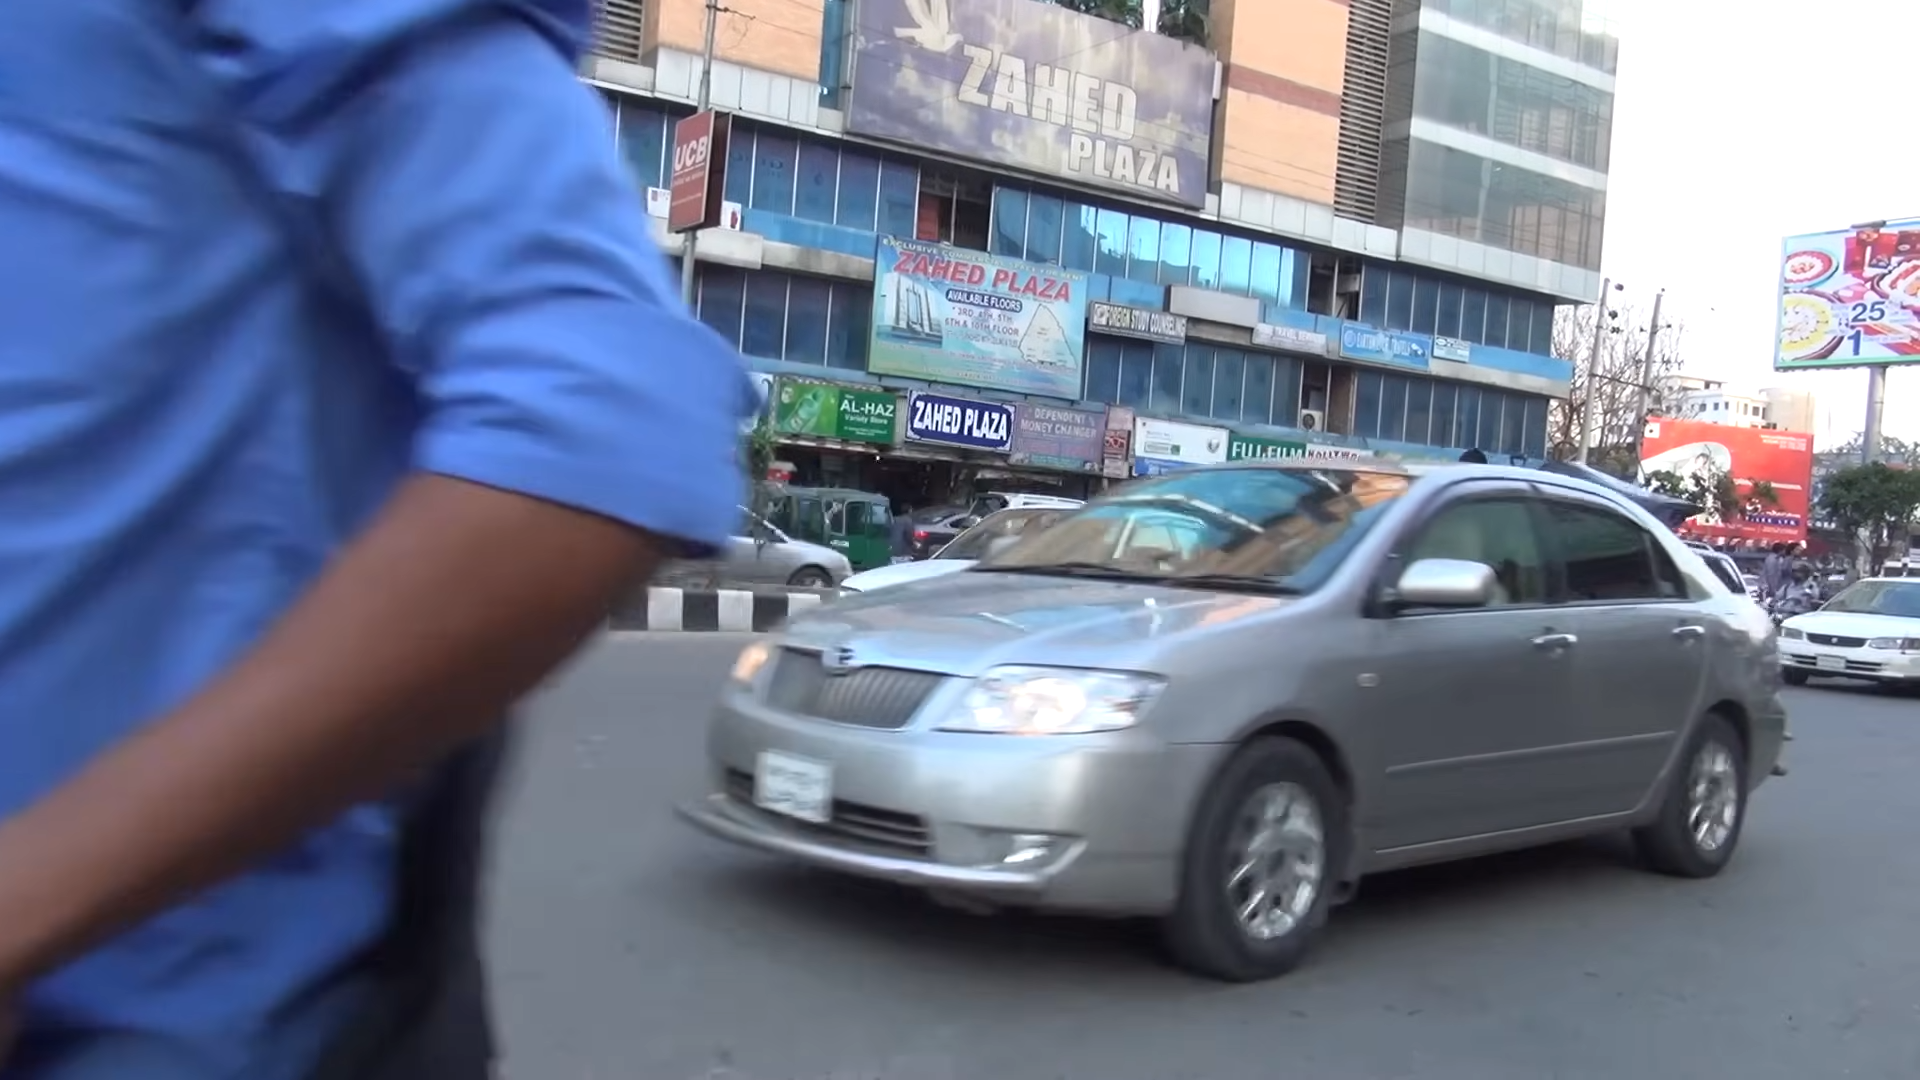Car: (688, 436, 1793, 978)
